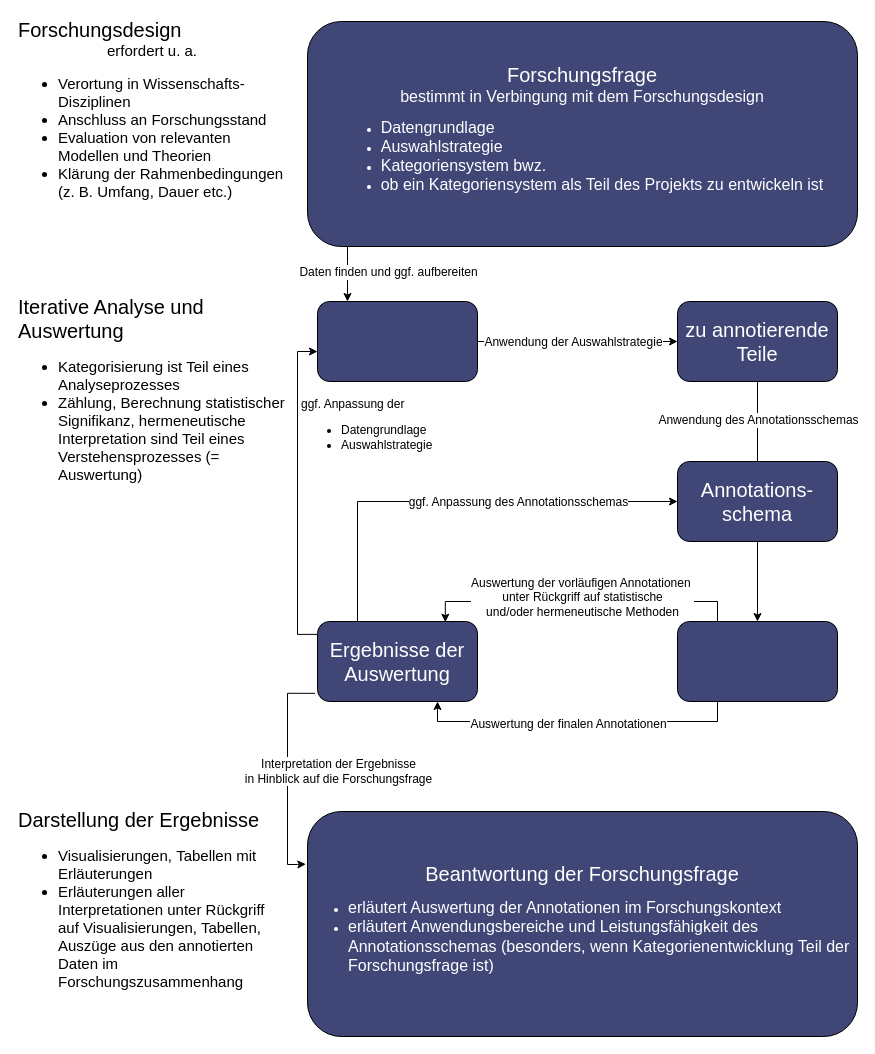
This 875x1054 diagram has some shape labels left out. The shapes that lost their labels are listed below. From the top down, each one's centre as x and y in pixels, then its label:
the point at 397,341: Datengrundlage
the point at 757,661: annotierte Daten
